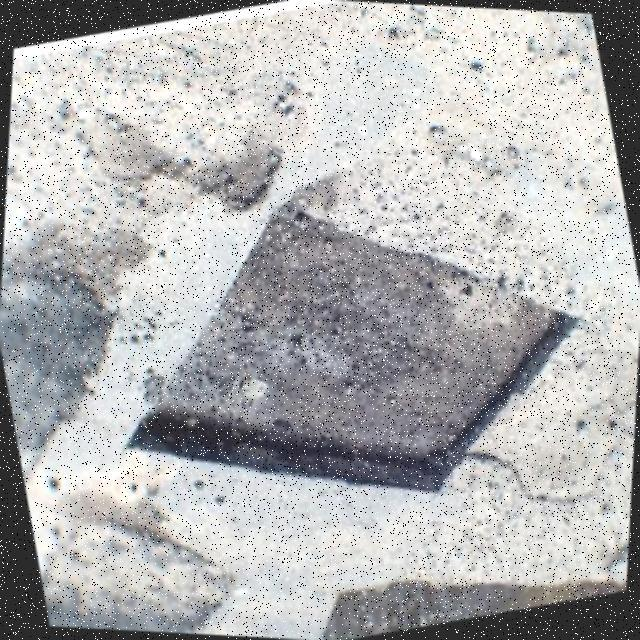Pothole: (126, 179, 579, 493), (0, 233, 155, 466), (24, 466, 231, 634), (321, 580, 604, 640)
